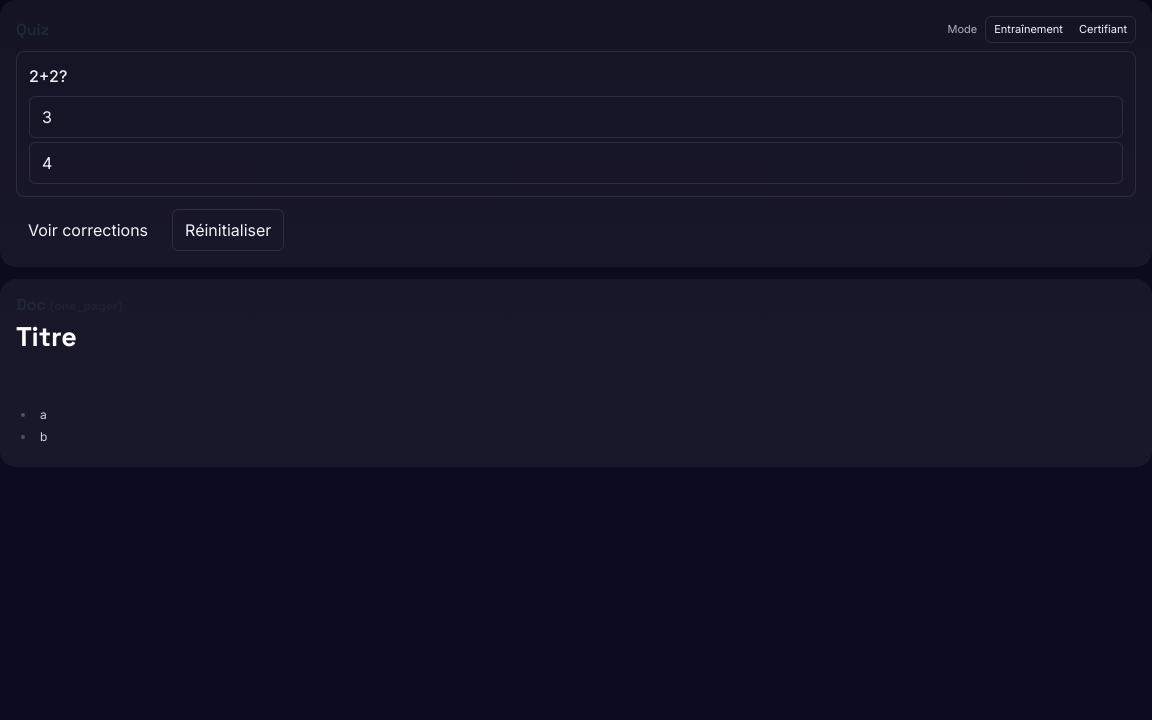
Test: UIBlocksRenderer › renders quiz and shows explanation
Click the button "Voir corrections". click: coordinates (88, 230)
box: [16,210,160,250]
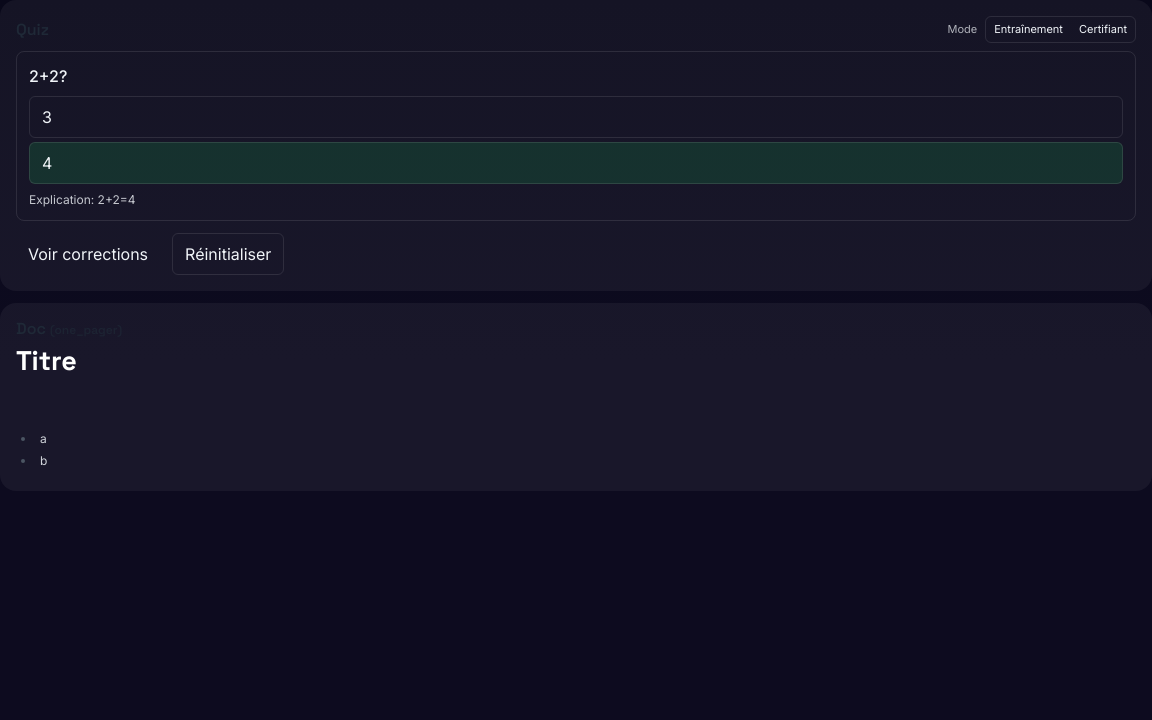
Check: the text "Explication: 2+2=4" is shown, box [29,192,136,206]
